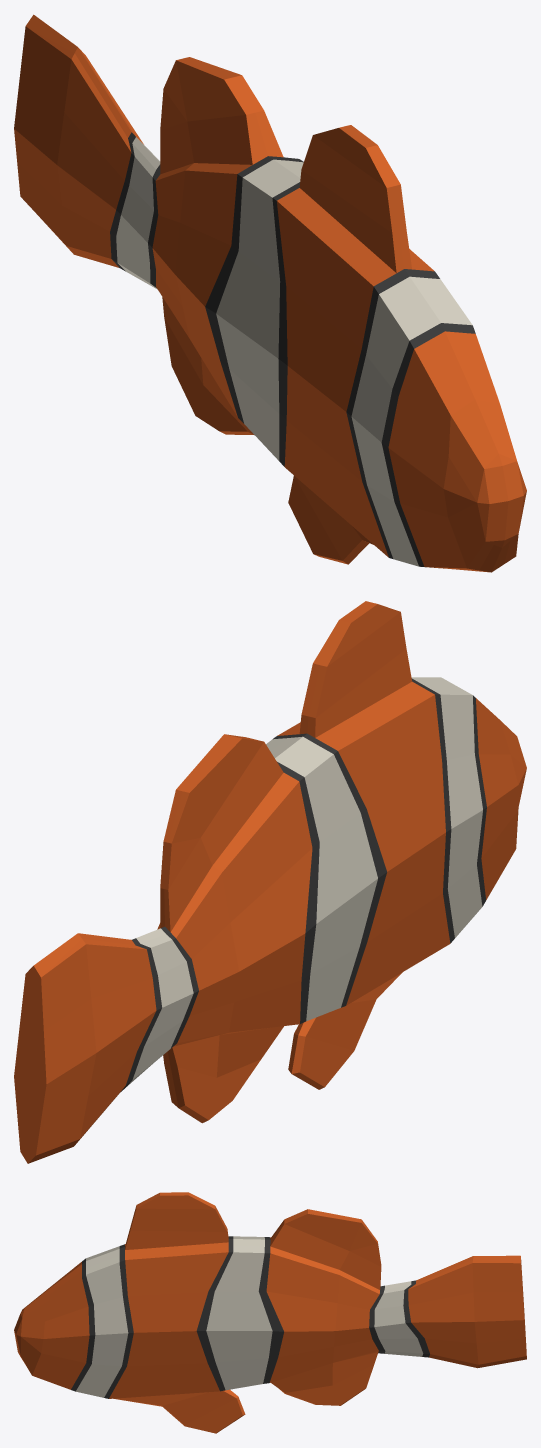
File: fish.glb
3 renders of one model, top to bottom at view 1: azimuth 30°, elevation 25°; view 2: azimuth 150°, elevation 25°; view 3: azimuth 270°, elevation 25°, orthographic. The views are drawn at different scales.
Parts seen in each view (by area): view 1: ClownFish; view 2: ClownFish; view 3: ClownFish.
Boxes of the visible parts, x1,y1,x2,y2 form: ClownFish: (14,14,526,572); ClownFish: (14,601,526,1163); ClownFish: (14,1192,526,1433).
Size of the model in its own units: 0.9605 by 4.06 by 7.88.
Materials: 2 (1 with a texture image).
